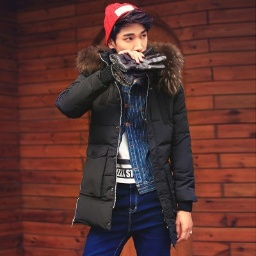face: (103, 8, 151, 62)
